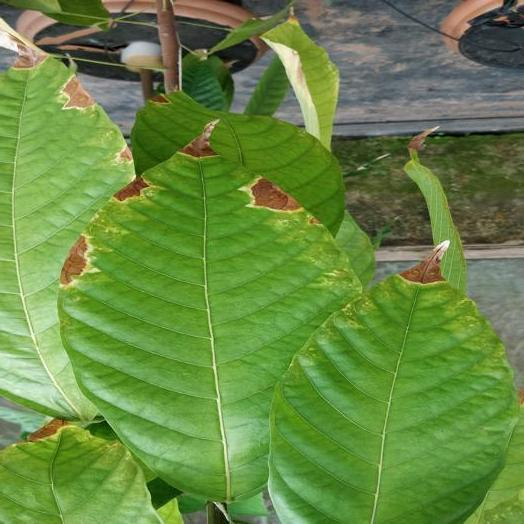Potassium: (58, 122, 360, 502), (269, 243, 517, 523), (0, 26, 134, 420), (0, 419, 161, 523)
